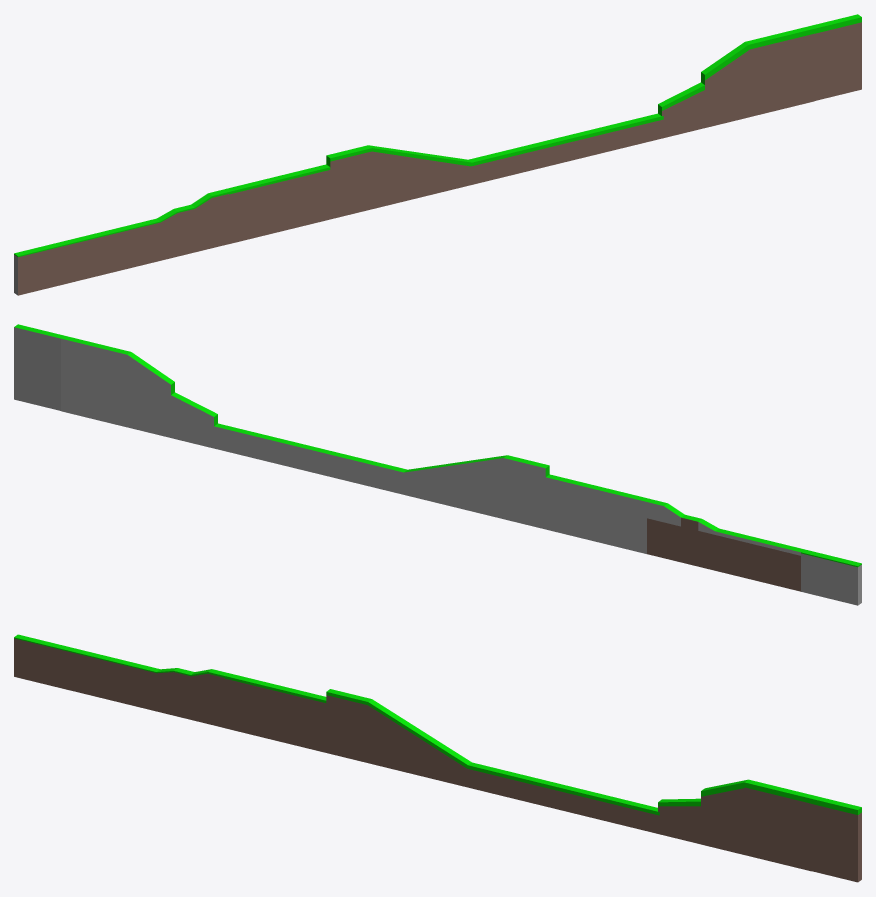
The model's file is first_1.fbx.
3 renders of one model, top to bottom at view 1: azimuth 30°, elevation 25°; view 2: azimuth 150°, elevation 25°; view 3: azimuth 330°, elevation 25°, orthographic.
Parts seen in each view (by area): view 1: pCube4; view 2: pCube4; view 3: pCube4.
Part boxes in pixels (bbox=[...]): pCube4: bbox=[14, 14, 861, 295]; pCube4: bbox=[14, 324, 861, 605]; pCube4: bbox=[14, 634, 861, 882].
Bounding box in the file's own units: 246 × 20.26 × 2.02.
